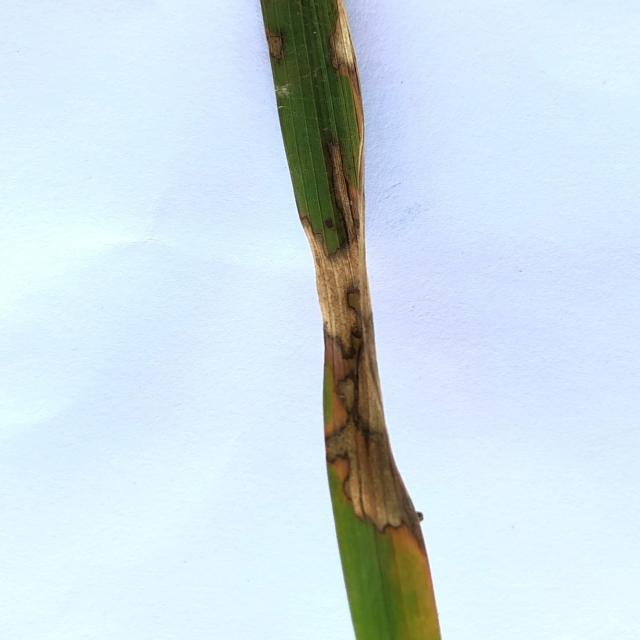Leaf Blight: (300, 0, 423, 555)
